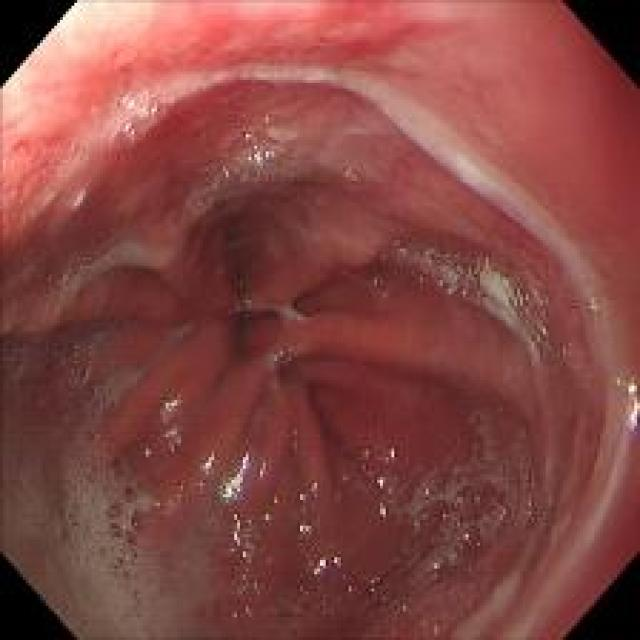bubbles: (415, 244, 570, 372), (65, 441, 148, 606), (414, 480, 488, 586), (99, 452, 149, 549), (101, 96, 171, 151), (279, 589, 335, 628), (65, 342, 100, 404), (110, 559, 142, 601), (80, 421, 104, 451)
color misalignment: (228, 512, 271, 619), (365, 441, 401, 521), (152, 394, 189, 459), (605, 365, 638, 434), (220, 446, 255, 509), (292, 470, 324, 536), (301, 550, 345, 578), (232, 275, 260, 319), (196, 449, 215, 482), (365, 571, 379, 598), (258, 459, 269, 485)
specularity: (228, 120, 278, 172), (121, 122, 135, 139), (119, 96, 134, 110)
